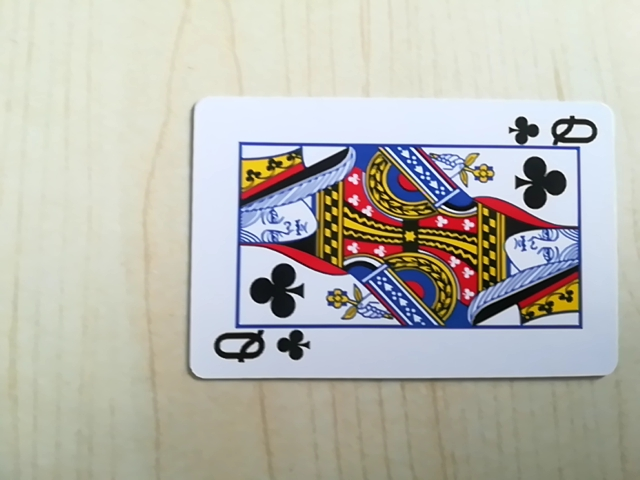mh q: (207, 324, 310, 373), (505, 111, 600, 151)
